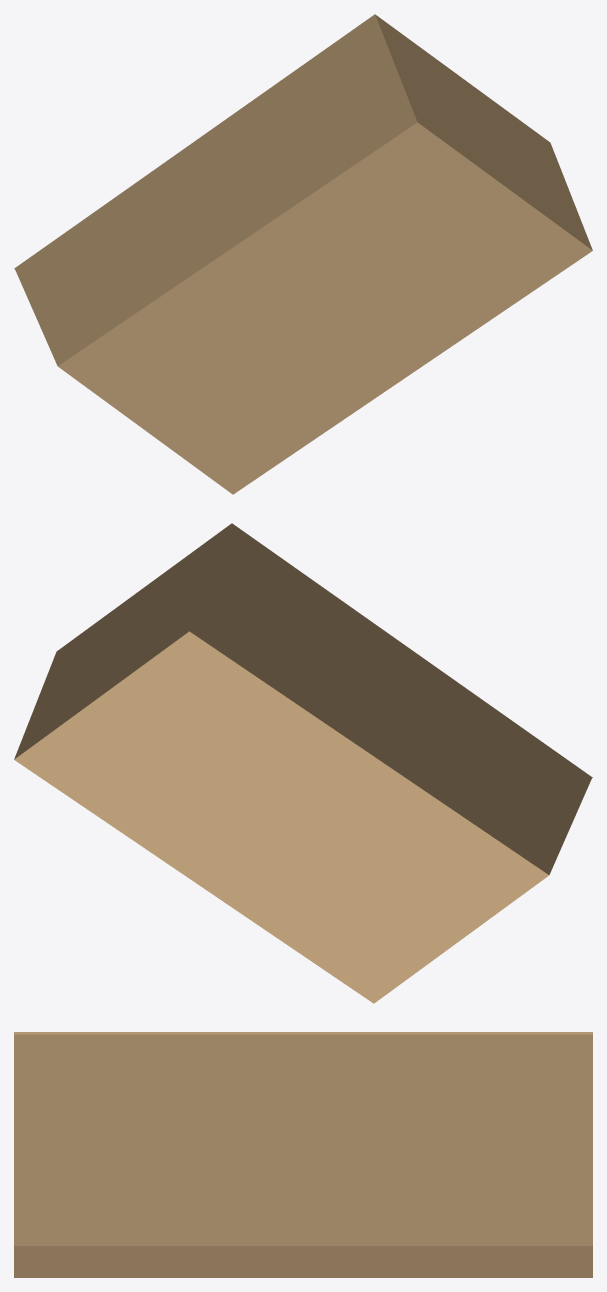
The picture shows the model from 3 angles, top to bottom: view 1: azimuth 30°, elevation 25°; view 2: azimuth 150°, elevation 25°; view 3: azimuth 270°, elevation 25°; orthographic projection. The views are drawn at different scales.
Visible parts, largest first — view 1: 0_0_3_2_0_1_2_3_0; view 2: 0_0_3_2_0_1_2_3_0; view 3: 0_0_3_2_0_1_2_3_0.
Boxes of the visible parts, x1,y1,x2,y2 form: 0_0_3_2_0_1_2_3_0: [14, 14, 592, 494]; 0_0_3_2_0_1_2_3_0: [14, 523, 592, 1003]; 0_0_3_2_0_1_2_3_0: [14, 1032, 592, 1277].
Bounding box in the file's own units: 27.89 × 18.15 × 21.
